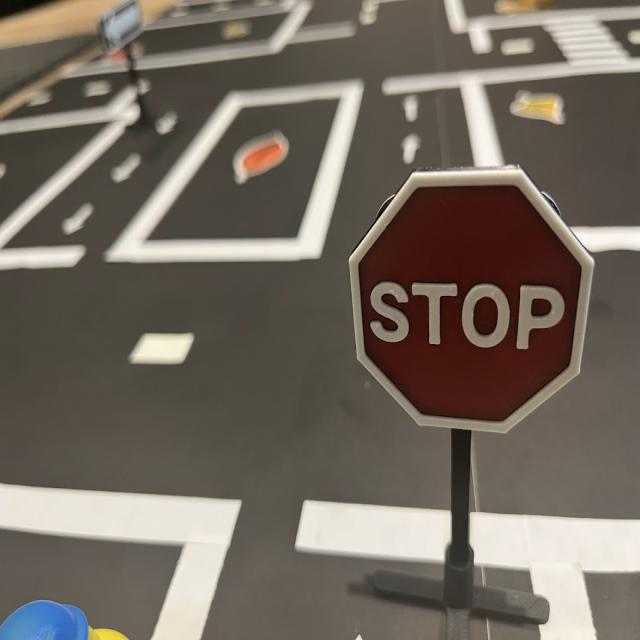duck_specialty: (1, 598, 146, 640), (401, 90, 423, 123)
road_oneway: (58, 196, 101, 236), (108, 147, 150, 186), (396, 127, 427, 174)
sign_oneway_left: (100, 1, 154, 57)
sign_stop: (349, 166, 595, 434)
